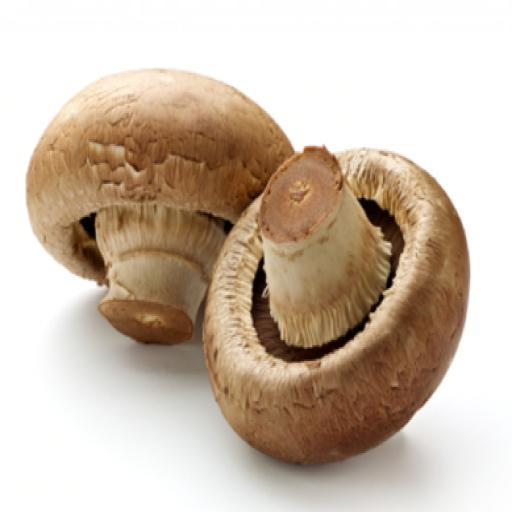mushroom: (204, 140, 476, 472), (21, 62, 275, 340)
